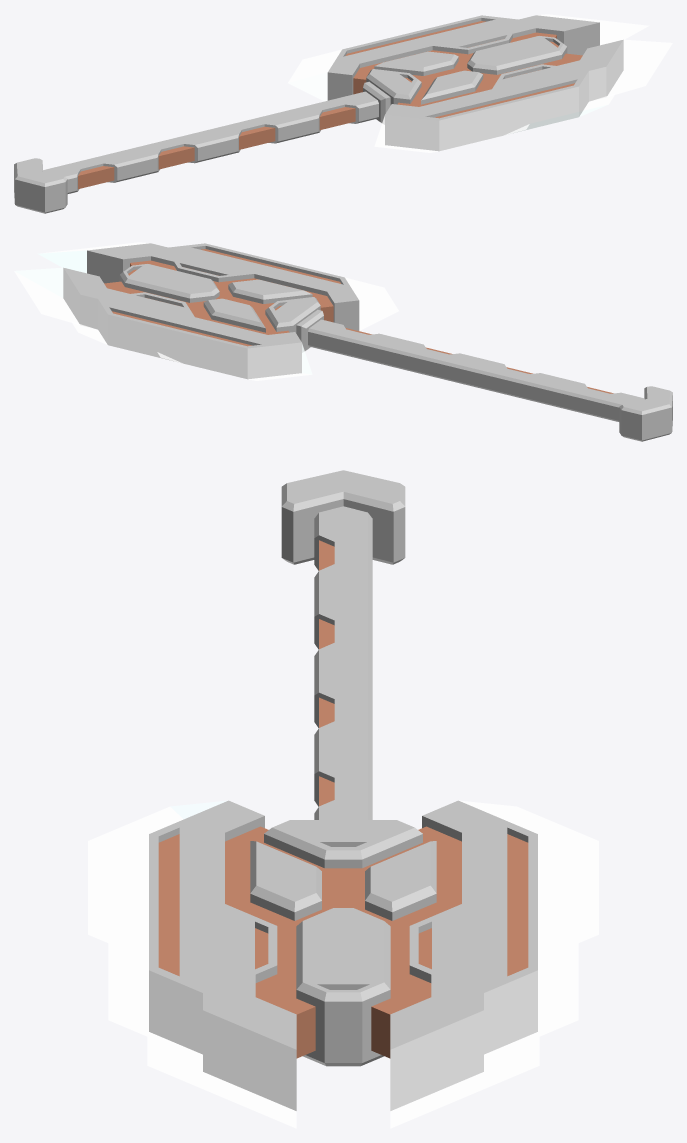
The model's file is weap3_axe.fbx.
3 views of the same model, one above another, from view 1: azimuth 30°, elevation 25°; view 2: azimuth 150°, elevation 25°; view 3: azimuth 270°, elevation 25° (orthographic). The views are drawn at different scales.
Visible parts, largest first — view 1: weap3_axe; view 2: weap3_axe; view 3: weap3_axe.
Boxes of the visible parts, x1,y1,x2,y2 form: weap3_axe: (14, 14, 672, 213); weap3_axe: (14, 242, 672, 441); weap3_axe: (88, 470, 598, 1128).
Bounding box in the file's own units: 79.68 × 4.36 × 27.28.
